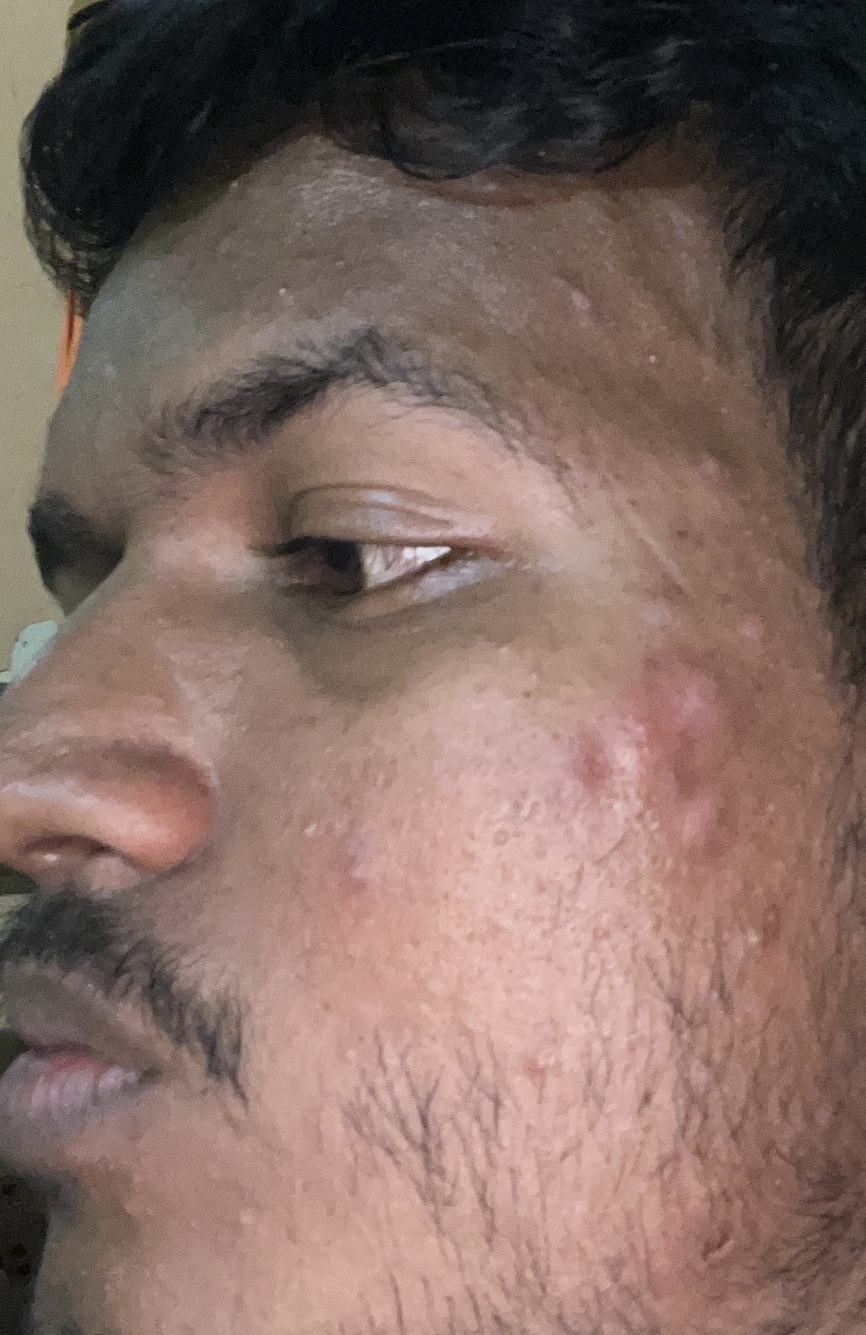nodule: (662, 783, 779, 880), (644, 662, 741, 763)
papule: (677, 440, 759, 523), (706, 585, 794, 658), (336, 823, 404, 904), (208, 1171, 257, 1248)
pustule: (530, 259, 613, 347)
